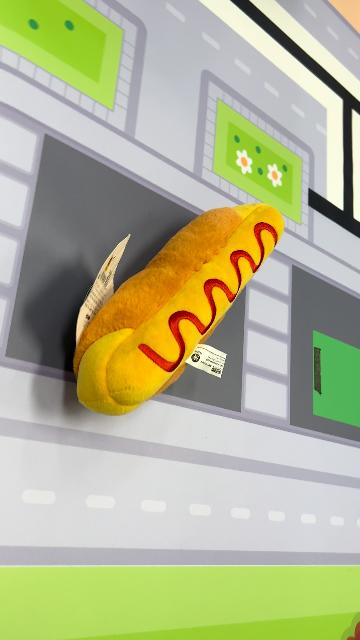hotdog: (74, 202, 286, 418)
